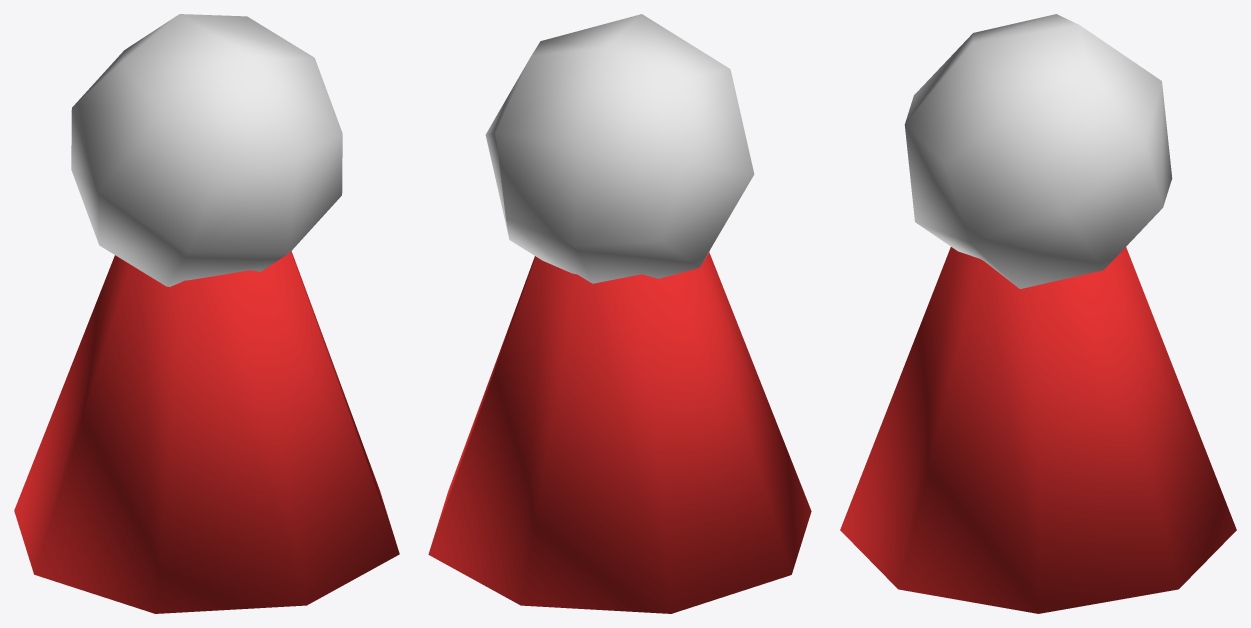
The model's file is Perso.fbx.
The picture shows the model from 3 angles, left to right: view 1: azimuth 30°, elevation 25°; view 2: azimuth 150°, elevation 25°; view 3: azimuth 270°, elevation 25°; orthographic projection.
Visible parts, largest first — view 1: Cylinder.015; view 2: Cylinder.015; view 3: Cylinder.015.
Part boxes in pixels (x1,y1,x2,y2): Cylinder.015: (14, 14, 399, 613); Cylinder.015: (428, 14, 811, 613); Cylinder.015: (840, 14, 1236, 613).
Size of the model in its own units: 8.23 by 11.48 by 8.23.
